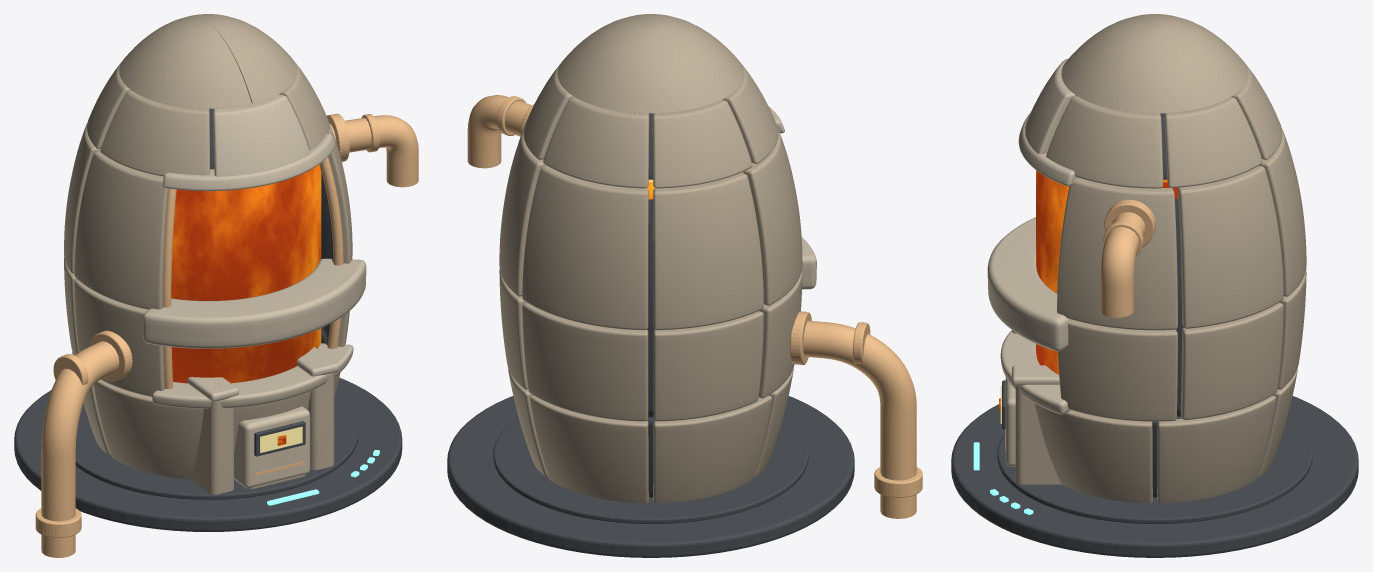
The model's file is reactor.glb.
The picture shows the model from 3 angles, left to right: view 1: azimuth 30°, elevation 25°; view 2: azimuth 150°, elevation 25°; view 3: azimuth 270°, elevation 25°; orthographic projection. The views are drawn at different scales.
Visible parts, largest first — view 1: flame_core, reactor_base, reactor_shell_cap, reactor_shell_2_4, reactor_rib_big, reactor_shell_0_5, reactor_shell_3_5, reactor_pipe_left, reactor_shell_3_0, reactor_base_top, reactor_shell_1_4, reactor_rib_low (+23 smaller); view 2: reactor_base, reactor_shell_2_2, reactor_shell_2_3, reactor_shell_cap, reactor_shell_1_2, reactor_base_top, reactor_shell_1_3, reactor_shell_0_4, reactor_shell_0_3, reactor_pipe_left, reactor_shell_3_3, reactor_shell_3_4 (+13 smaller); view 3: reactor_base, reactor_shell_2_1, reactor_shell_cap, reactor_shell_2_0, reactor_shell_1_0, reactor_shell_1_1, reactor_shell_0_2, reactor_base_top, reactor_shell_0_1, reactor_shell_3_1, reactor_shell_3_2, reactor_rib_big (+14 smaller).
Part boxes in pixels (x1,y1,x2,y2): flame_core: (171, 164, 321, 383); reactor_base: (14, 377, 402, 531); reactor_shell_cap: (119, 14, 297, 108); reactor_shell_2_4: (74, 151, 168, 309); reactor_rib_big: (143, 258, 366, 348); reactor_shell_0_5: (93, 379, 203, 479); reactor_shell_3_5: (100, 90, 209, 176); reactor_pipe_left: (41, 341, 119, 557); reactor_shell_3_0: (213, 94, 310, 176); reactor_base_top: (75, 398, 358, 499); reactor_shell_1_4: (74, 280, 164, 396); reactor_rib_low: (152, 343, 353, 408); reactor_base: (447, 396, 854, 557); reactor_shell_2_2: (522, 165, 648, 330); reactor_shell_2_3: (653, 172, 763, 330); reactor_shell_cap: (557, 14, 744, 113); reactor_shell_1_2: (522, 302, 648, 421); reactor_base_top: (493, 418, 808, 523); reactor_shell_1_3: (653, 311, 763, 421); reactor_shell_0_4: (653, 395, 771, 503); reactor_shell_0_3: (530, 395, 648, 503); reactor_pipe_left: (803, 320, 916, 518); reactor_shell_3_3: (543, 97, 649, 188); reactor_shell_3_4: (652, 99, 752, 188); reactor_base: (951, 396, 1358, 557); reactor_shell_2_1: (1178, 165, 1283, 328); reactor_shell_cap: (1061, 14, 1248, 113); reactor_shell_2_0: (1057, 178, 1177, 330); reactor_shell_1_0: (1058, 320, 1177, 421); reactor_shell_1_1: (1180, 302, 1283, 420); reactor_shell_0_2: (1157, 395, 1275, 503); reactor_base_top: (997, 418, 1312, 523); reactor_shell_0_1: (1035, 403, 1152, 503); reactor_shell_3_1: (1046, 96, 1163, 188); reactor_shell_3_2: (1164, 97, 1262, 187); reactor_rib_big: (987, 217, 1071, 351).
Bounding box in the file's own units: 4.03 × 4.28 × 3.36.
7 materials, 1 textured.
